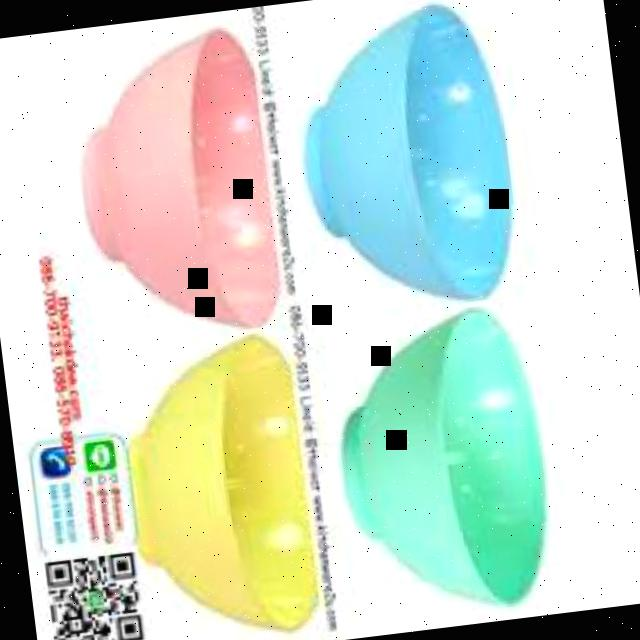plastic_box: (319, 300, 561, 624), (284, 0, 524, 318), (65, 23, 286, 346), (116, 329, 321, 640)
